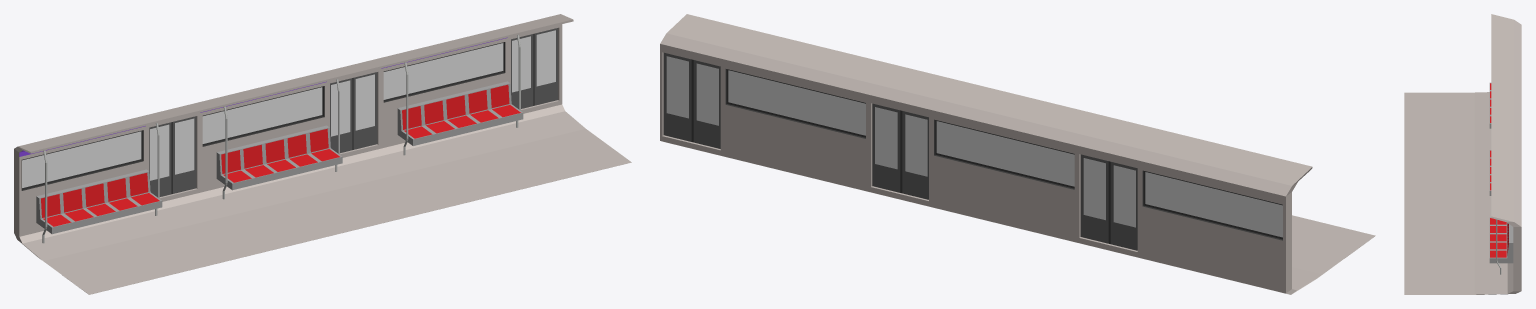
Rendered from metro.partidoblend.fbx.
3 renders of one model, left to right at view 1: azimuth 30°, elevation 25°; view 2: azimuth 150°, elevation 25°; view 3: azimuth 270°, elevation 25°, orthographic. The views are drawn at different scales.
Visible parts, largest first — view 1: Cube.002, Cube.001, Cube.020, Cube.017, Cube.015, Cube.014; view 2: Cube.002, Cube.020, Cube.001; view 3: Cube.001, Cube.020, Cube.002, Cube.015, Cube.014, Cube.017, Cylinder.015.
Boxes of the visible parts, x1,y1,x2,y2 form: Cube.002: [14, 102, 269, 294]; Cube.001: [380, 14, 631, 206]; Cube.020: [199, 58, 450, 250]; Cube.017: [216, 125, 342, 190]; Cube.015: [397, 81, 523, 145]; Cube.014: [36, 169, 162, 234]; Cube.002: [1077, 116, 1375, 294]; Cube.020: [868, 65, 1103, 242]; Cube.001: [660, 14, 894, 192]; Cube.001: [1404, 149, 1521, 294]; Cube.020: [1404, 81, 1521, 227]; Cube.002: [1404, 14, 1521, 159]; Cube.015: [1489, 217, 1513, 263]; Cube.014: [1489, 82, 1491, 128]; Cube.017: [1489, 150, 1491, 195]; Cylinder.015: [1496, 227, 1501, 274].
Bounding box in the file's own units: 3505 × 625 × 851.
